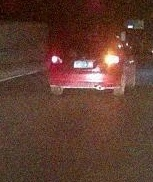L_light: (51, 55, 64, 64)
R_light: (103, 54, 119, 64)
T_light: (81, 38, 93, 41)
night-right: (47, 33, 120, 96)
